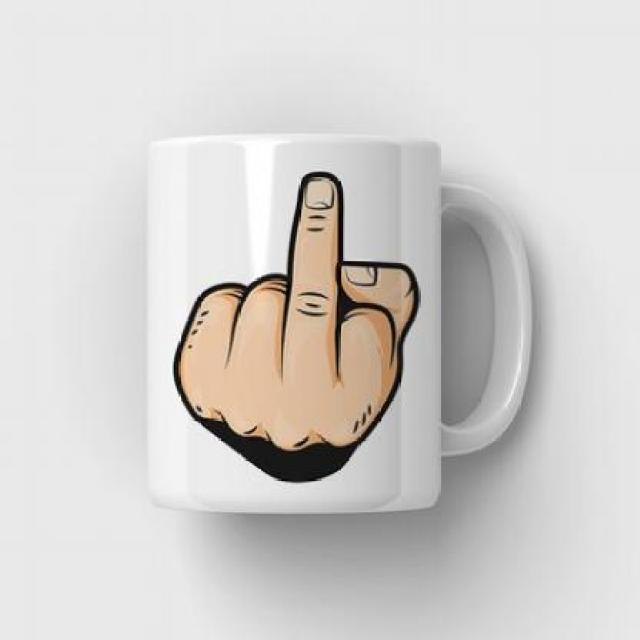taza: (130, 118, 550, 532)
